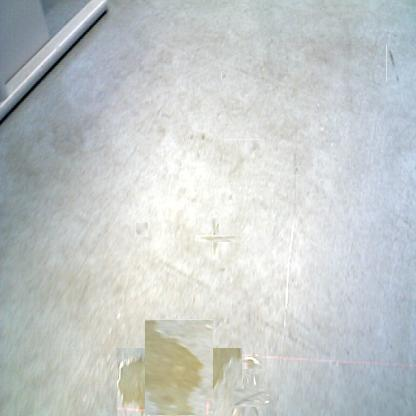liquid: (131, 333, 227, 416), (244, 354, 260, 370), (246, 374, 258, 388)
mark: (227, 139, 259, 176), (238, 385, 264, 411), (203, 227, 228, 251), (386, 44, 399, 82), (135, 222, 148, 237), (188, 130, 194, 140), (200, 133, 206, 143), (216, 112, 222, 121), (294, 166, 300, 174), (221, 71, 226, 79)
